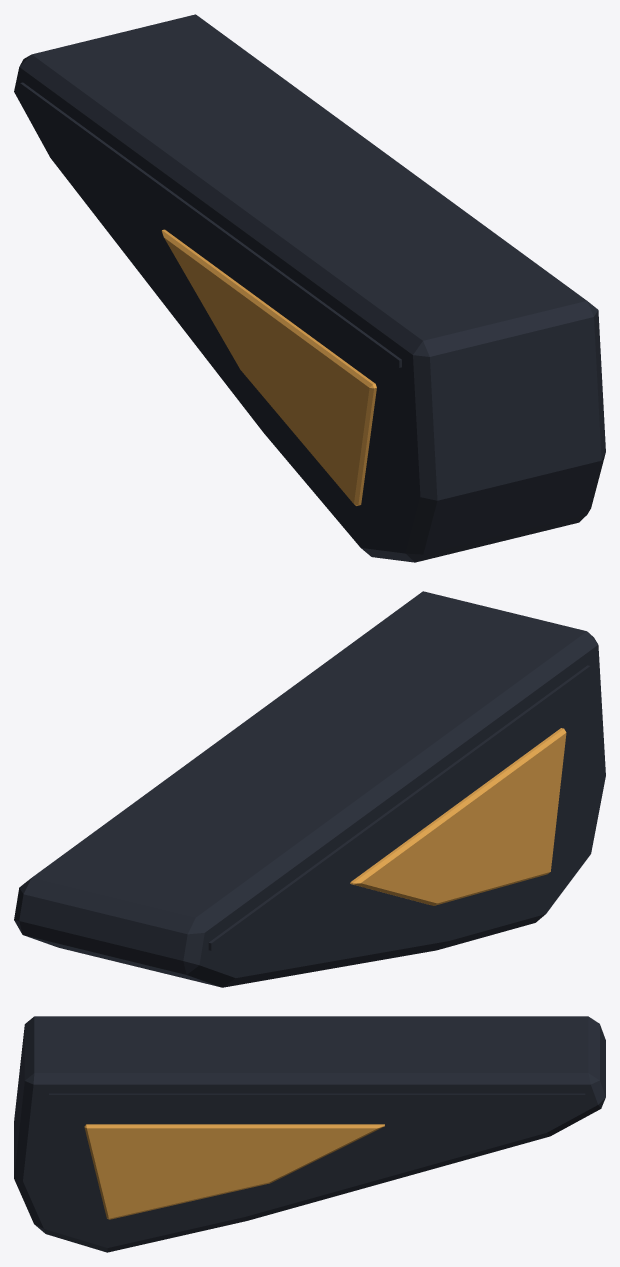
The model's file is angled.glb.
3 views of the same model, one above another, from view 1: azimuth 30°, elevation 25°; view 2: azimuth 150°, elevation 25°; view 3: azimuth 270°, elevation 25° (orthographic). The views are drawn at different scales.
Visible parts, largest first — view 1: angled_body, angled_insert, angled_groove; view 2: angled_body, angled_insert, angled_groove; view 3: angled_body, angled_insert, angled_groove.
Part boxes in pixels (bbox=[...]): angled_body: bbox=[14, 14, 605, 562]; angled_insert: bbox=[161, 229, 376, 505]; angled_groove: bbox=[20, 82, 401, 367]; angled_body: bbox=[14, 591, 605, 987]; angled_insert: bbox=[350, 728, 566, 905]; angled_groove: bbox=[208, 665, 590, 950]; angled_body: bbox=[14, 1016, 605, 1252]; angled_insert: bbox=[84, 1124, 384, 1219]; angled_groove: bbox=[49, 1093, 585, 1099].
Bounding box in the file's own units: 0.0276 × 0.034 × 0.1015.
